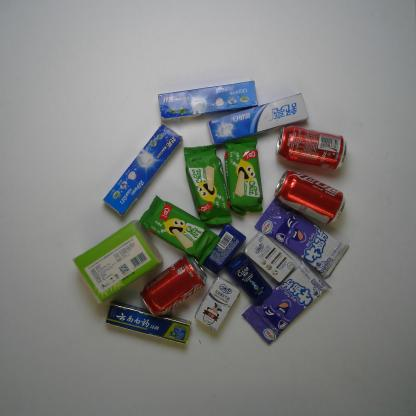Candy: (242, 258, 333, 346), (255, 200, 349, 280)
Dessert: (140, 195, 224, 266), (180, 144, 237, 228), (220, 134, 265, 216)
Drink: (141, 254, 209, 317), (275, 170, 346, 224), (276, 124, 350, 170)
Milk: (195, 276, 241, 334), (245, 233, 296, 285)
Personal Hygiene: (103, 126, 183, 217), (207, 93, 310, 145), (105, 296, 193, 346), (157, 80, 259, 120), (227, 252, 271, 305), (202, 225, 247, 275)
Tissue: (74, 220, 164, 304)
